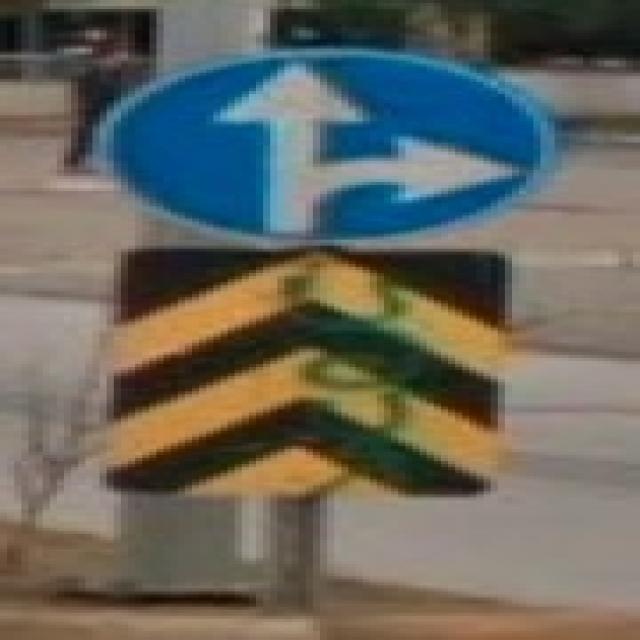Straight or Right: (97, 50, 545, 238)
